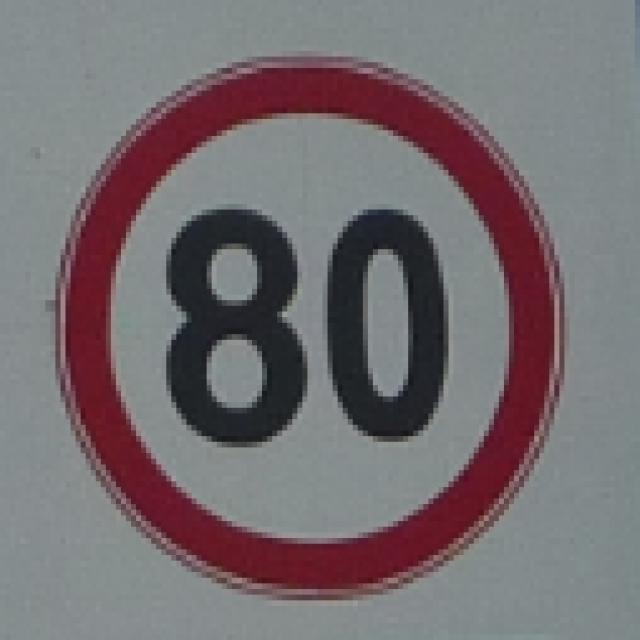speed limit 80: (54, 55, 563, 597)
